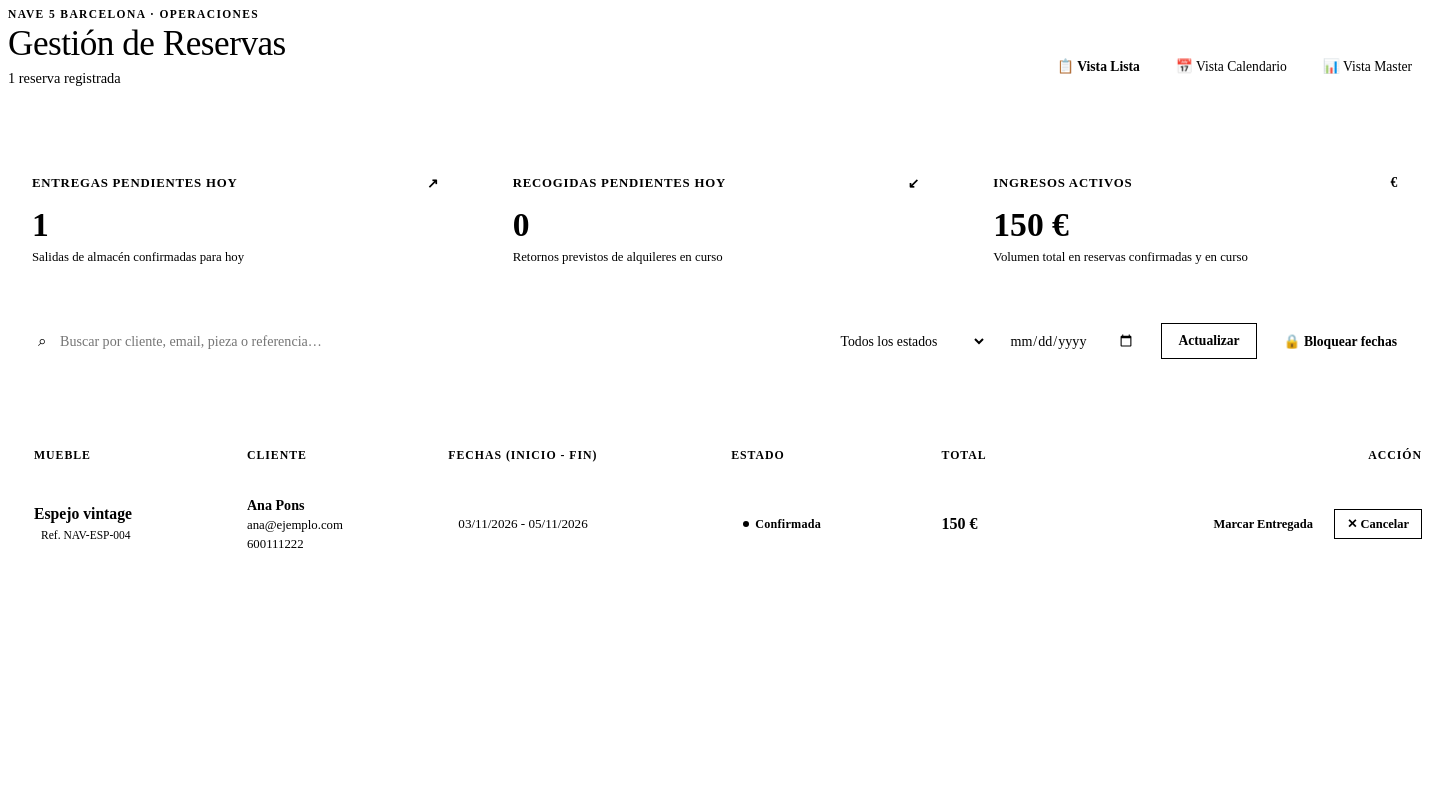
Test: ReservasTab — cobertura de casos restantes › modal de cancelación › volver a marcar el 100% recupera el importe total
Expected: the button "Actualizar" is enabled, x1=1162 y1=324 x2=1257 y2=360
Click the button "✕ Cancelar" at [1378, 524], box x1=1334 y1=510 x2=1422 y2=540
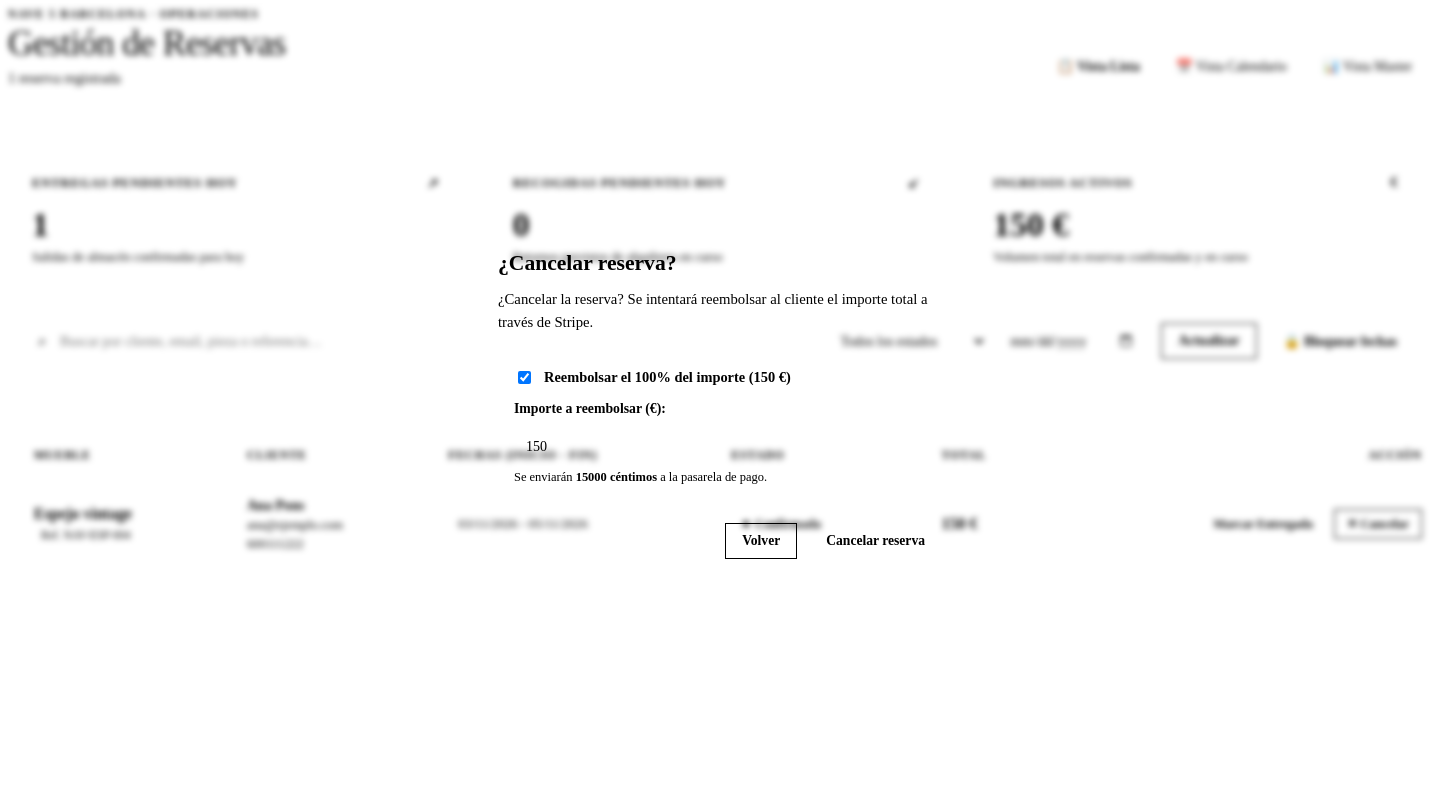
Click the checkbox at [524, 377], box x1=518 y1=371 x2=531 y2=384
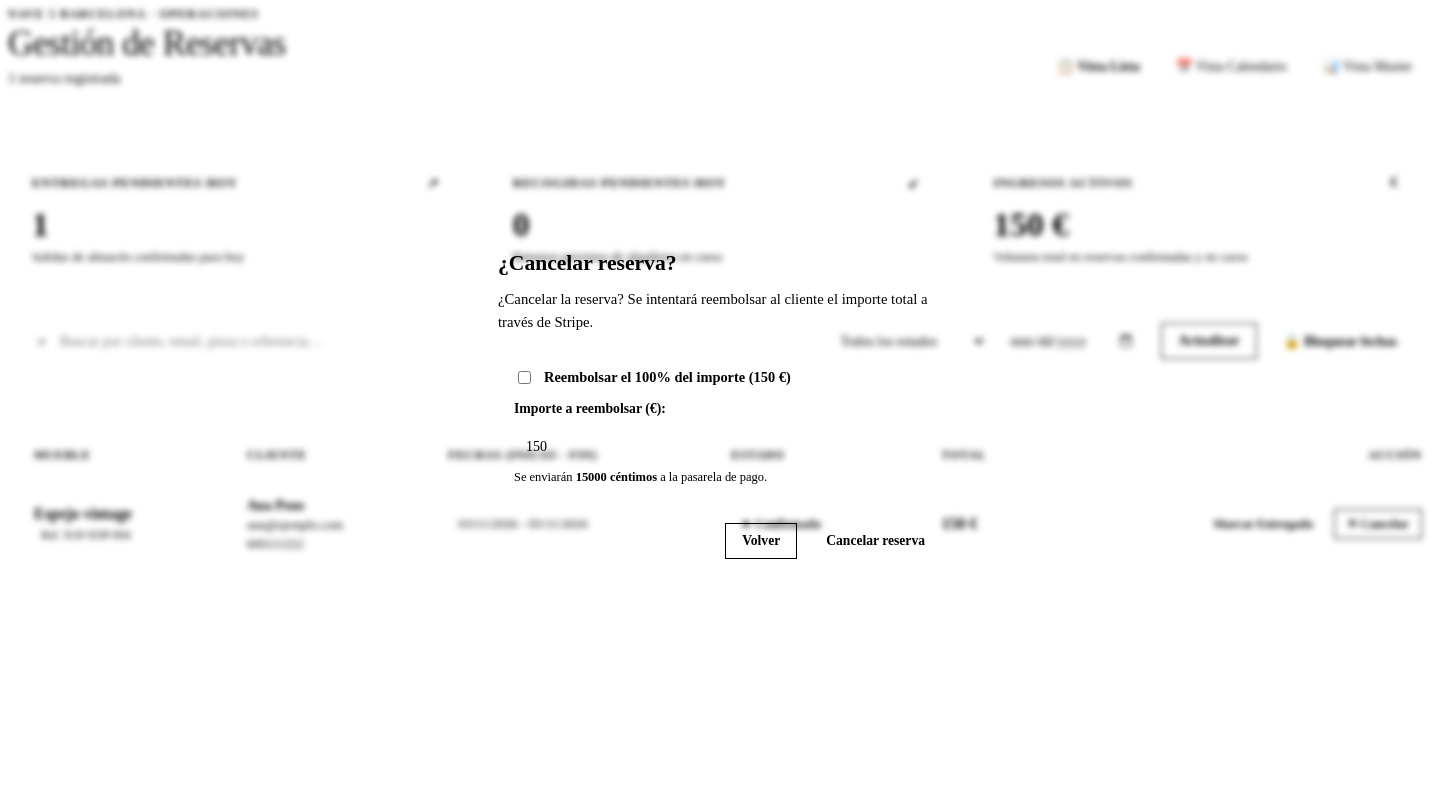
Replace the text in the number field labelled "Importe a reembolsar (€):" with "20" at [720, 446], box x1=514 y1=429 x2=926 y2=464
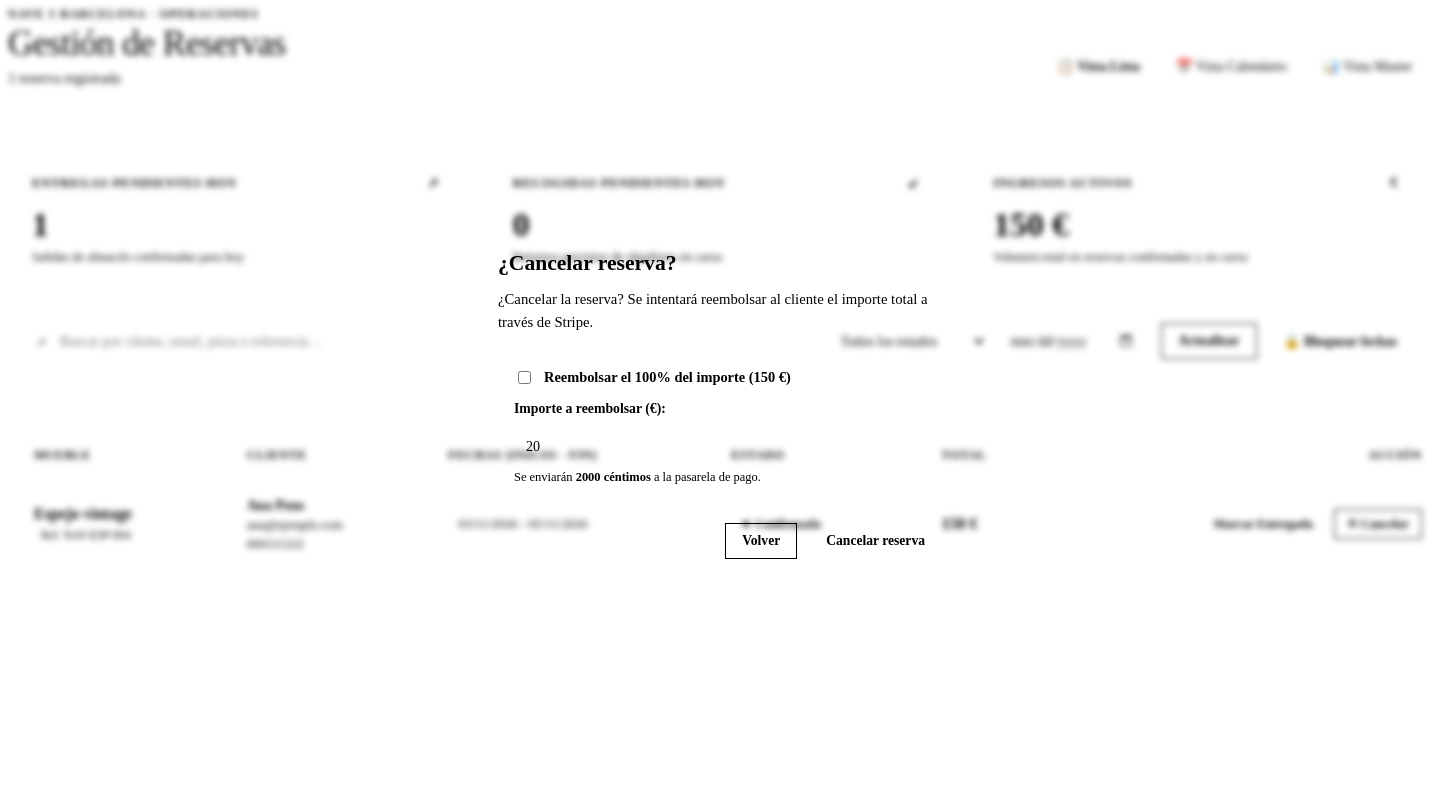
Now the text "2000 céntimos" is shown, box x1=576 y1=470 x2=651 y2=484
Click the checkbox at [524, 377], box x1=518 y1=371 x2=531 y2=384
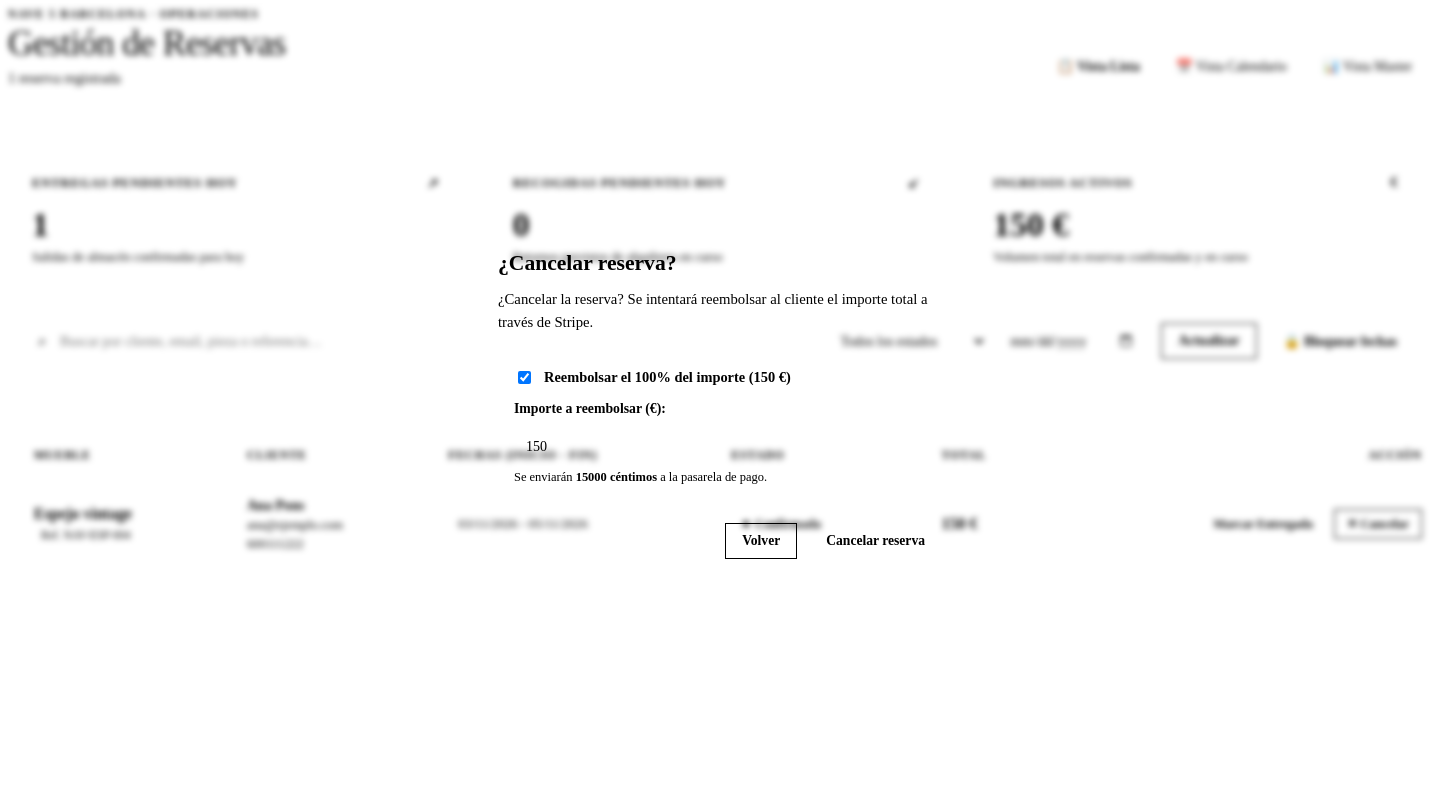
Now the number field labelled "Importe a reembolsar (€):" holds "150", box x1=514 y1=429 x2=926 y2=464
Now the text "15000 céntimos" is shown, box x1=576 y1=470 x2=657 y2=484
